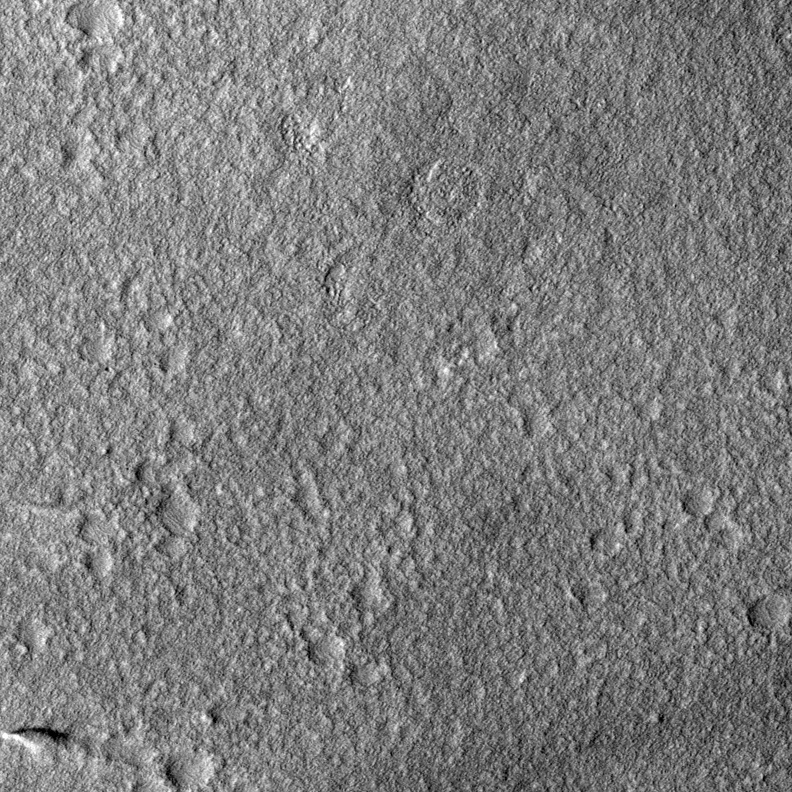dust_devil: (1, 724, 73, 755)
